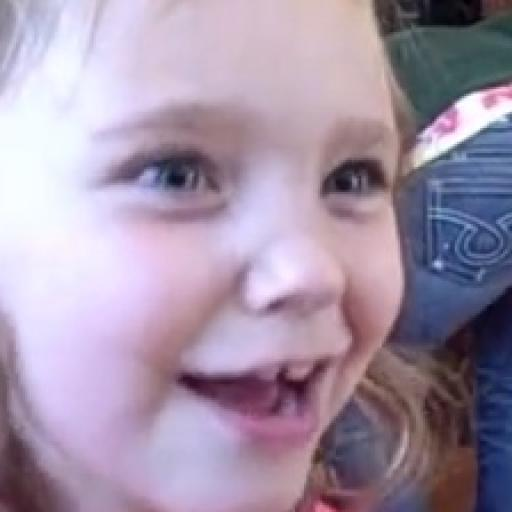Autism: (34, 0, 512, 512)
